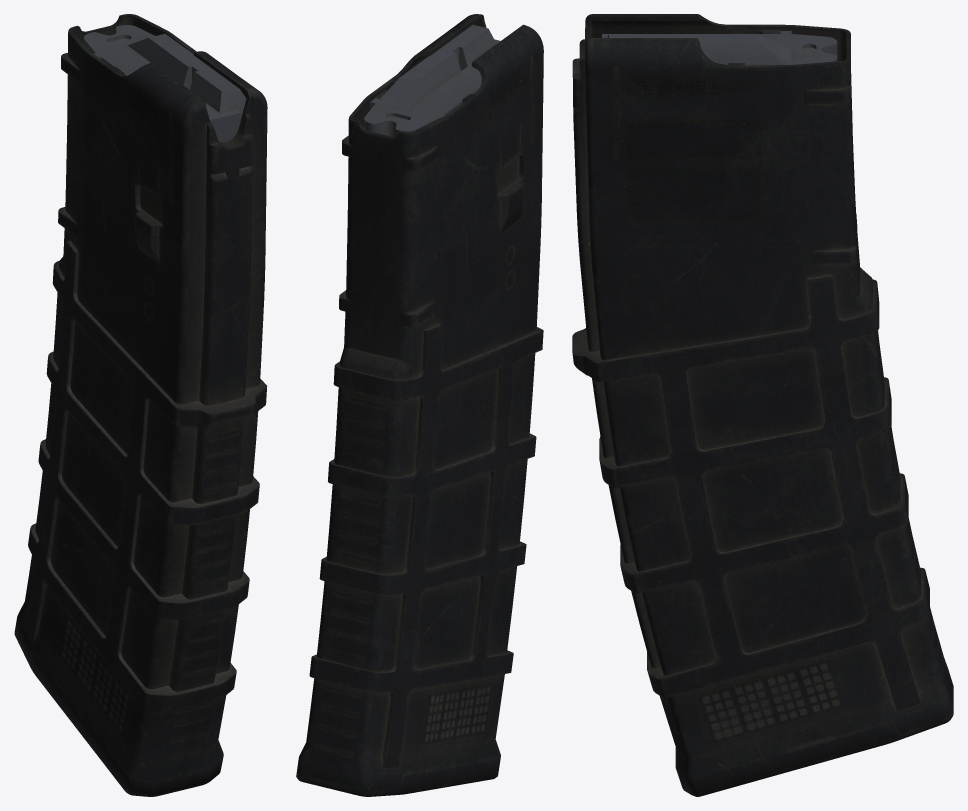
File: AR_15_pmag_30.glb
The picture shows the model from 3 angles, left to right: view 1: azimuth 30°, elevation 25°; view 2: azimuth 150°, elevation 25°; view 3: azimuth 270°, elevation 25°; orthographic projection. The views are drawn at different scales.
Visible parts, largest first — view 1: M4_PMAG_30, M4_PMAG_30_Feed; view 2: M4_PMAG_30, M4_PMAG_30_Feed; view 3: M4_PMAG_30, M4_PMAG_30_Feed.
Part boxes in pixels (bbox=[...]): M4_PMAG_30: bbox=[14, 14, 267, 796]; M4_PMAG_30_Feed: bbox=[84, 25, 246, 141]; M4_PMAG_30: bbox=[296, 14, 543, 796]; M4_PMAG_30_Feed: bbox=[364, 25, 500, 136]; M4_PMAG_30: bbox=[572, 14, 953, 796]; M4_PMAG_30_Feed: bbox=[602, 31, 837, 64].
Size of the model in its own units: 2.54 by 18.59 by 8.55.
Materials: 1 (1 with a texture image).
